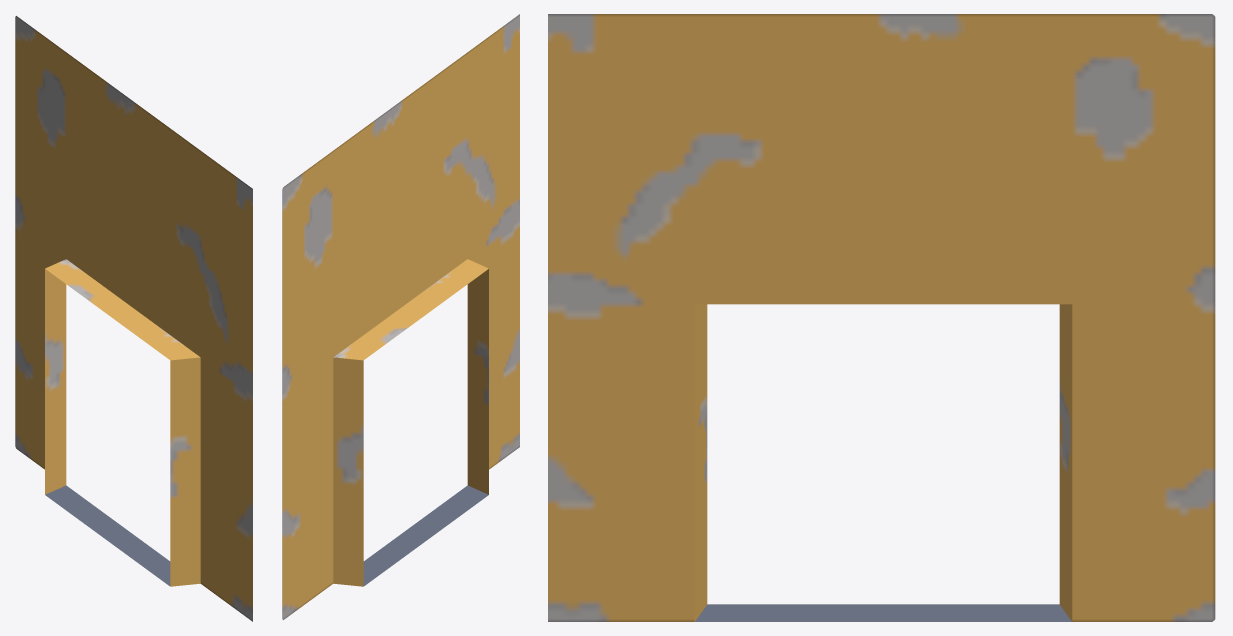
Rendered from ParedPuertaNaranja1.fbx.
3 views of the same model, side by side, from view 1: azimuth 30°, elevation 25°; view 2: azimuth 150°, elevation 25°; view 3: azimuth 270°, elevation 25° (orthographic). The views are drawn at different scales.
Visible parts, largest first — view 1: Pared + Puerta Lar; view 2: Pared + Puerta Lar; view 3: Pared + Puerta Lar.
Boxes of the visible parts, x1,y1,x2,y2 form: Pared + Puerta Lar: [15, 16, 252, 621]; Pared + Puerta Lar: [282, 14, 519, 619]; Pared + Puerta Lar: [548, 14, 1215, 621].
Size of the model in its own units: 18.75 by 300 by 300.
Materials: 1 (1 with a texture image).
